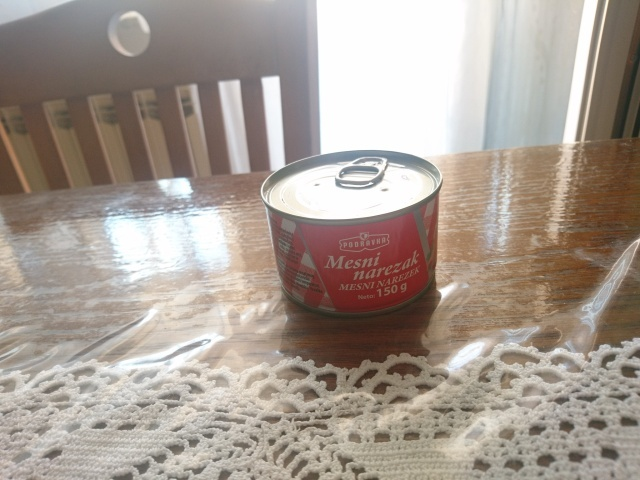Podravka Luncheon Meat 150g: (256, 146, 447, 322)
